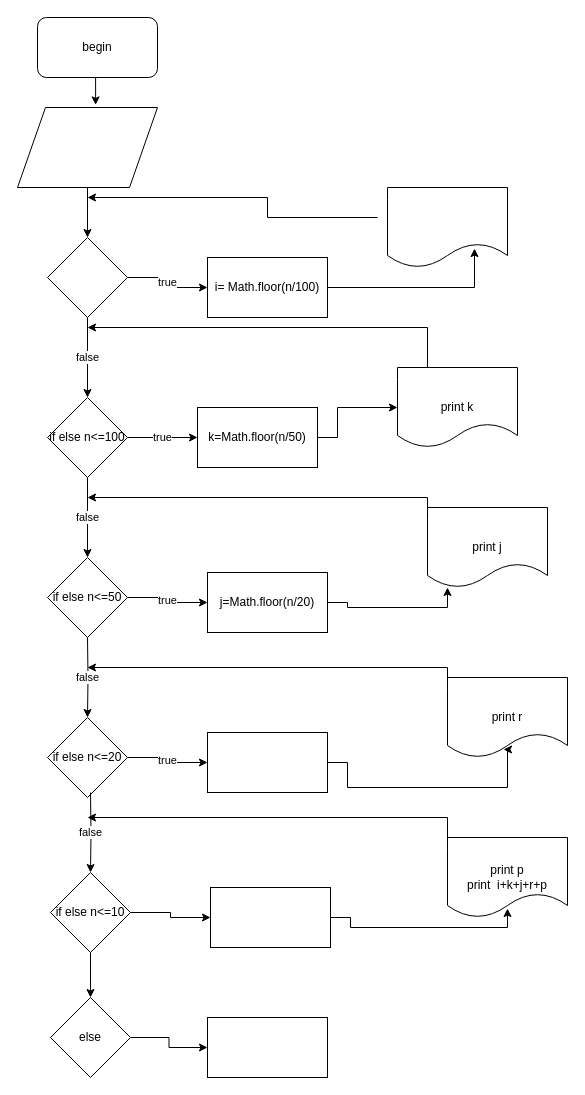
The diagram is 585 pixels wide and 1095 high, and some of its shapes have lost their labels. The centre of each missing label's shape, as x and y in pixels:
"if n>=100" goes at (x=87, y=277).
"input n i=0 k=0 j=0 r=0 p=0" goes at (x=87, y=147).
"p=Math.floor(n/5)" goes at (x=270, y=917).
"print -1" goes at (x=267, y=1047).
"print i" goes at (x=447, y=227).
"r=Math.floor(n/10)" goes at (x=267, y=762).
